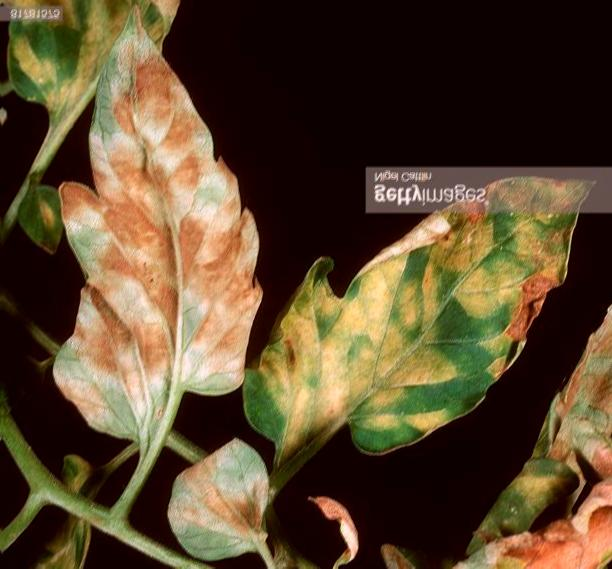Tomato mold leaf: (253, 150, 581, 464)
